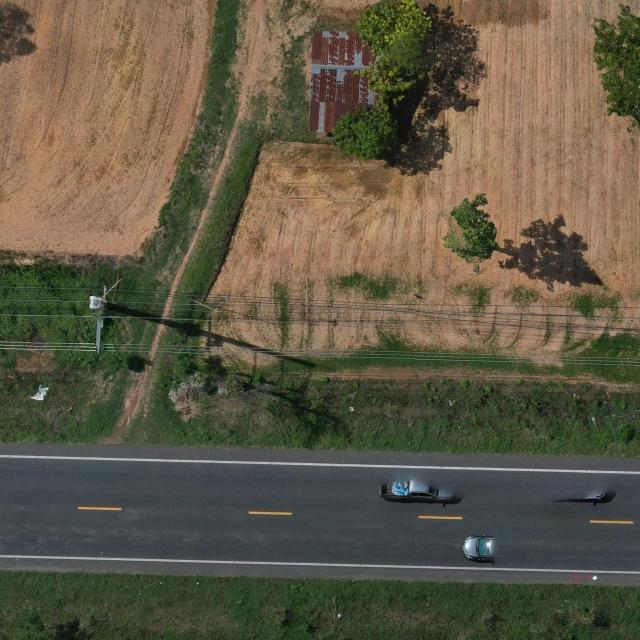Tree: (591, 2, 640, 129), (354, 33, 428, 93), (442, 192, 498, 264), (357, 0, 433, 50), (331, 106, 399, 160)
